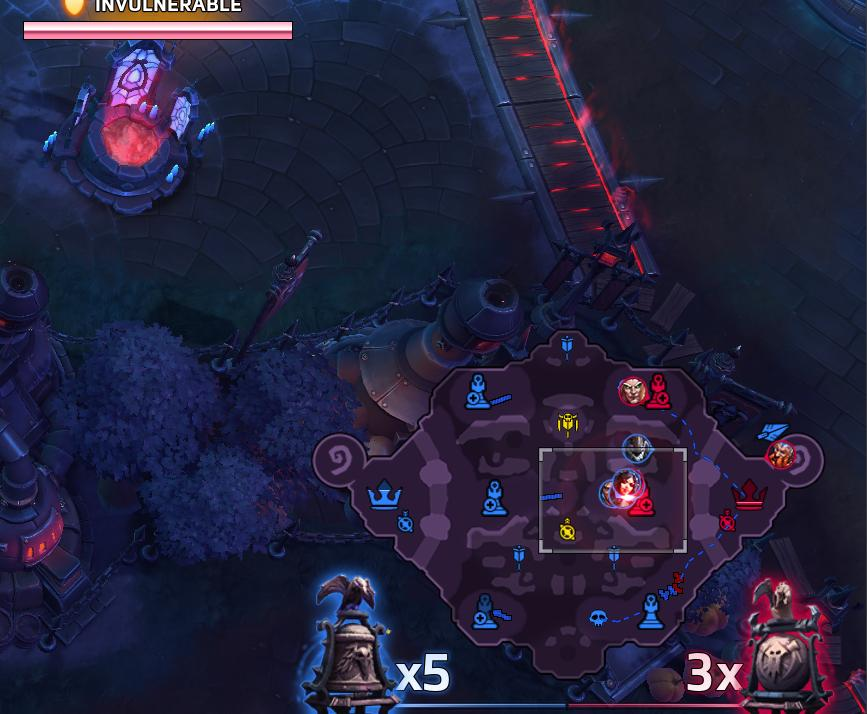blue nexus: (357, 469, 411, 519)
blue player: (615, 434, 659, 466), (608, 466, 646, 502)
blue tower: (476, 473, 514, 522), (468, 584, 502, 637), (459, 368, 497, 415), (631, 590, 669, 634)
red nexus: (729, 473, 772, 518)
red player: (758, 436, 802, 472), (613, 375, 653, 409)
red tower: (625, 479, 664, 520), (641, 373, 680, 414)
